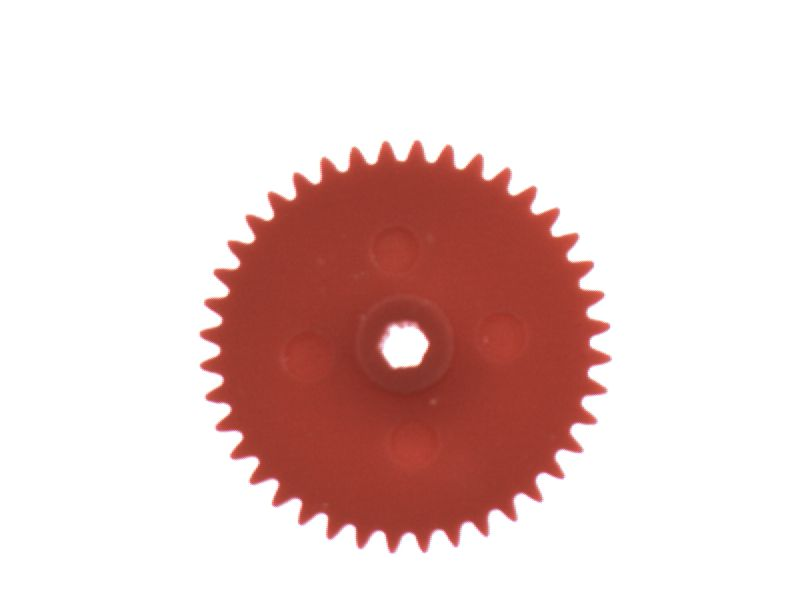good_product: (187, 126, 623, 564)
